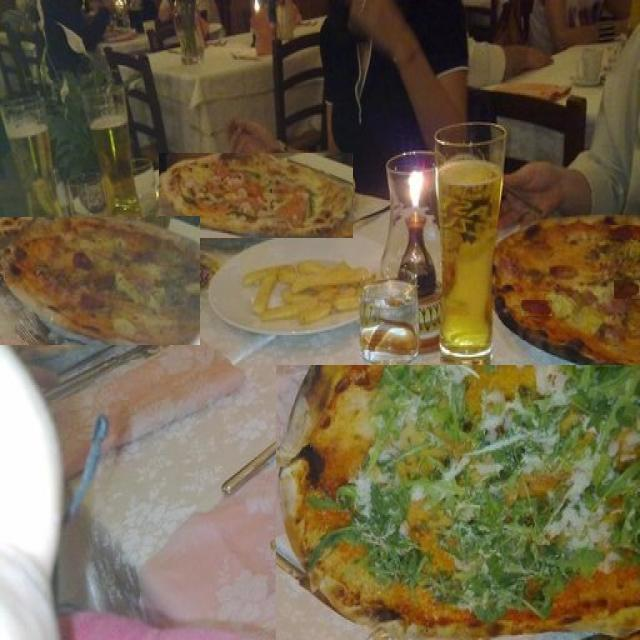pepperoni: (521, 300, 552, 316), (614, 280, 640, 299), (550, 264, 578, 280), (609, 225, 633, 242)
pizza: (276, 365, 640, 640), (0, 217, 200, 345), (493, 213, 640, 368), (159, 153, 353, 240)
